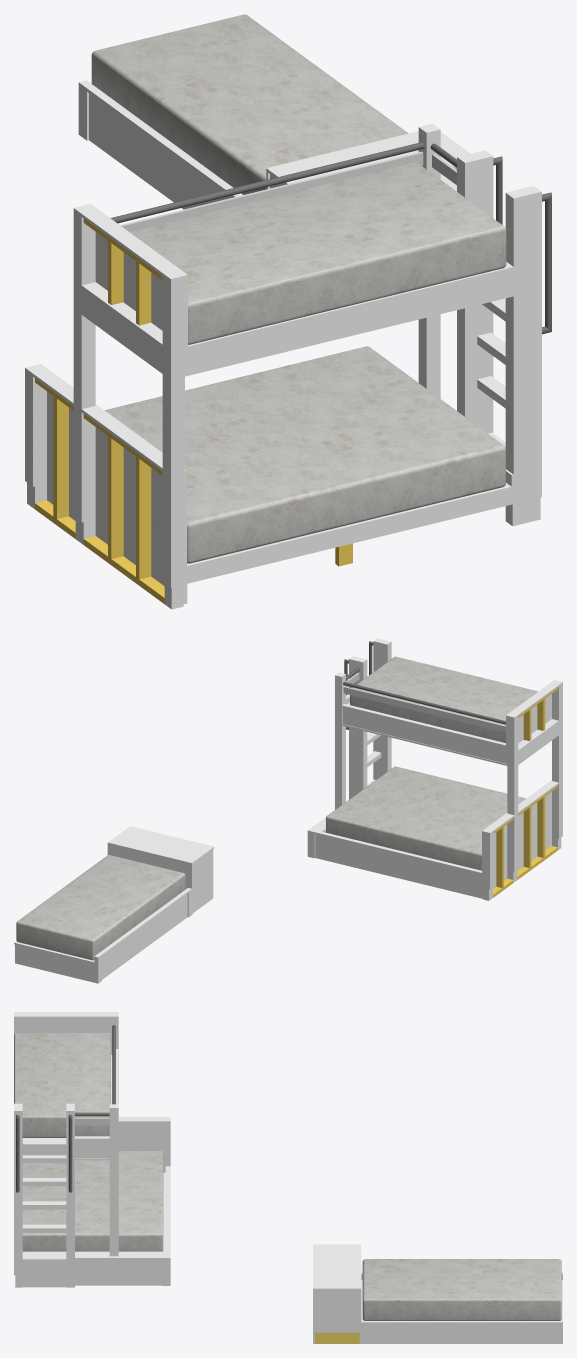
File: bunks-3.glb
The picture shows the model from 3 angles, top to bottom: view 1: azimuth 30°, elevation 25°; view 2: azimuth 150°, elevation 25°; view 3: azimuth 270°, elevation 25°; orthographic projection. The views are drawn at different scales.
Parts seen in each view (by area): view 1: mattress.005, mattress.006, mattress.001, Cube.227, Cube.195, Cube.196, Cube.197, Cube.011, Cube.192, Cube.203, Cube.214, Cube.206 (+24 smaller); view 2: mattress.005, mattress.001, mattress.006, Cube.186, Cube.223, Cube.011, Cube.023, Cube.197, Cube.195, Cube.014, Cube.198, Cube.246 (+20 smaller); view 3: mattress.001, mattress.005, mattress.006, Cube.013, Cube.194, Cube.023, Cube.024, Cube.236, Cube.214, Cube.221, Cube.198, Cube.215 (+11 smaller).
Part boxes in pixels (x1,y1,x2,y2): mattress.005: (105, 346, 505, 563); mattress.006: (129, 162, 506, 344); mattress.001: (91, 14, 408, 194); Cube.227: (185, 270, 513, 373); Cube.195: (162, 276, 184, 609); Cube.196: (505, 189, 527, 526); Cube.197: (73, 211, 95, 544); Cube.011: (89, 93, 231, 209); Cube.192: (185, 489, 513, 584); Cube.203: (520, 186, 541, 522); Cube.214: (47, 391, 186, 569); Cube.206: (457, 153, 479, 426); mattress.005: (326, 766, 526, 870); mattress.001: (16, 855, 185, 960); mattress.006: (350, 656, 538, 742); Cube.186: (315, 834, 482, 898); Cube.223: (342, 707, 507, 763); Cube.011: (94, 894, 187, 983); Cube.023: (107, 826, 214, 864); Cube.197: (507, 716, 518, 882); Cube.195: (552, 684, 562, 849); Cube.014: (18, 945, 94, 982); Cube.198: (335, 672, 345, 809); Cube.246: (343, 686, 505, 732); mattress.001: (362, 1259, 561, 1320); mattress.005: (22, 1151, 163, 1251); mattress.006: (14, 1033, 110, 1137); Cube.013: (361, 1324, 562, 1343); Cube.194: (75, 1259, 161, 1285); Cube.023: (313, 1244, 361, 1290); Cube.024: (313, 1290, 359, 1332); Cube.236: (14, 1015, 118, 1054); Cube.214: (118, 1123, 170, 1172); Cube.221: (22, 1155, 66, 1232); Cube.198: (109, 1104, 118, 1256); Cube.215: (66, 1107, 74, 1287).
Size of the model in its own units: 3.72 by 2.01 by 5.6.
7 materials, 2 textured.
